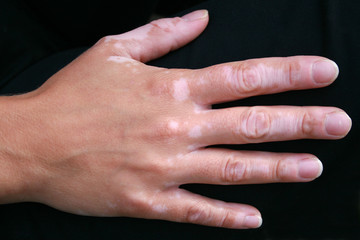vitiligo: (133, 21, 294, 216)
